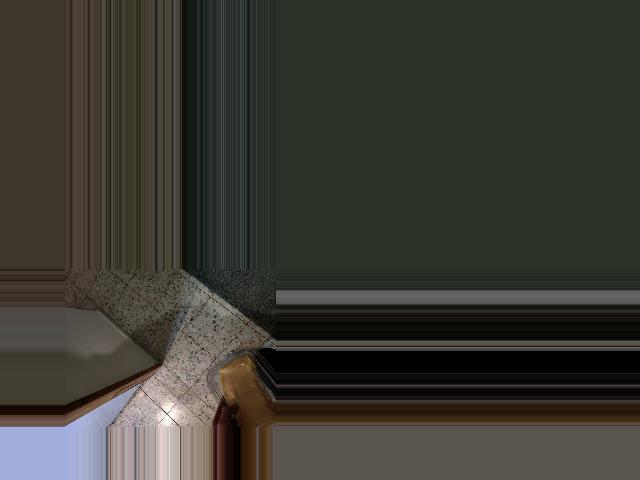cheese: (207, 350, 277, 428)
